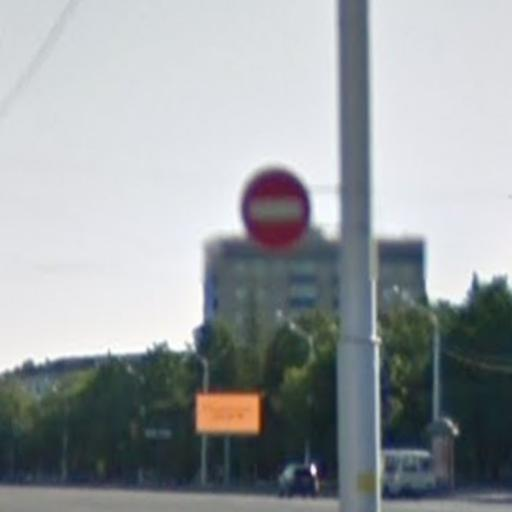traffic_sign: (240, 166, 316, 252)
